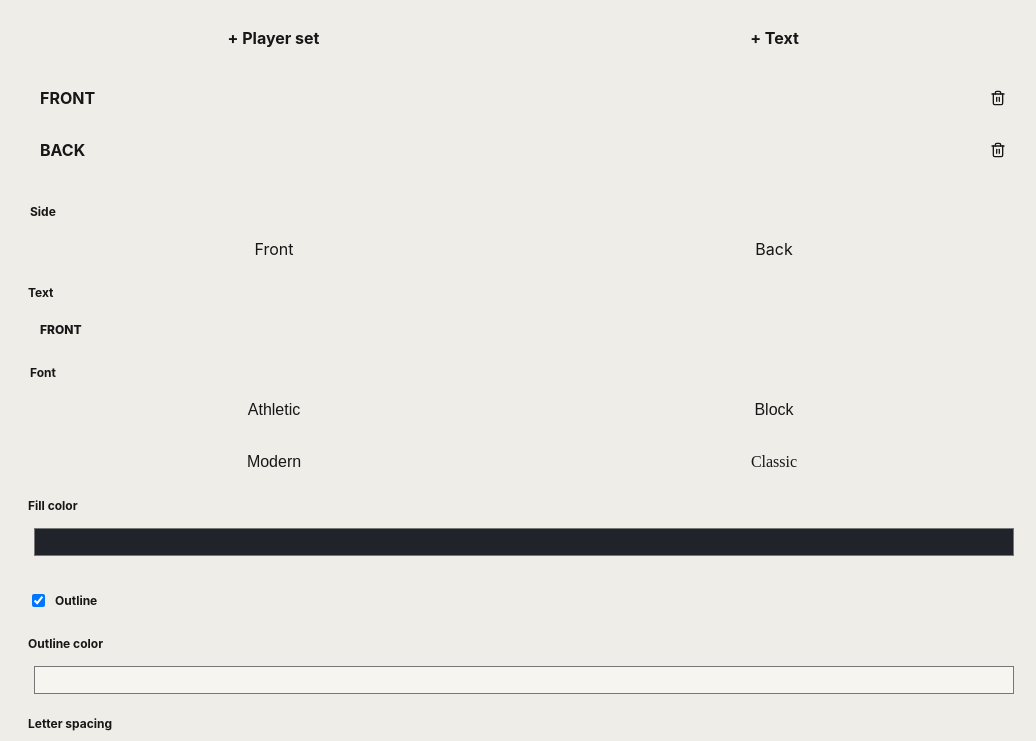
Test: PersonalizePanel › deletes the selected text from its row, clears selection, and returns focus to the list
Step 1. Click the button named "Delete text FRONT (text-1)" → point(998, 98), box [976,76,1020,120]
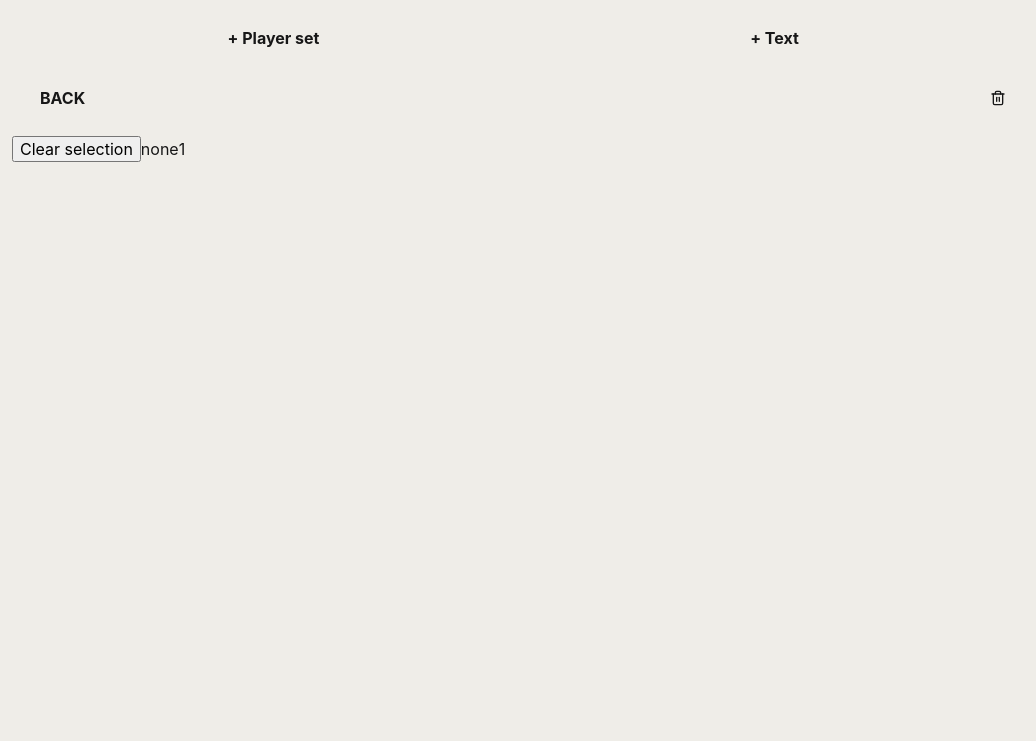
Check: the button "BACK" is shown, box [28,76,968,120]
Check: the button "FRONT" is gone
